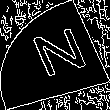N_S: (21, 24, 89, 86)
